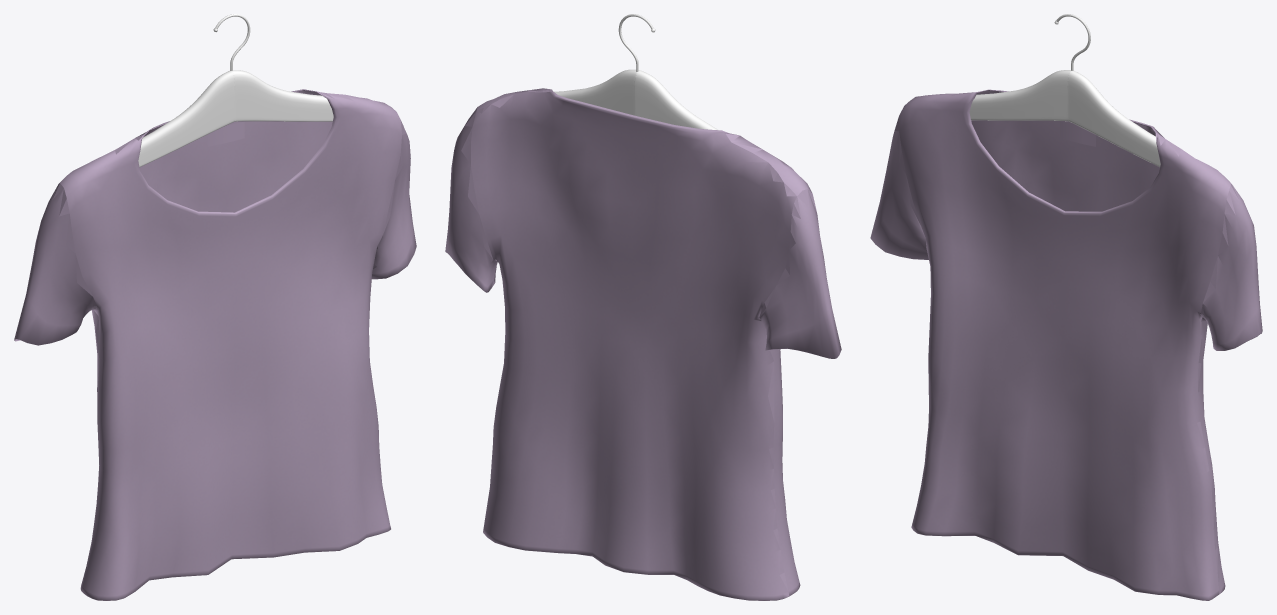
Rendered from HangingPurpleBlouse.gltf.
The picture shows the model from 3 angles, left to right: view 1: azimuth 30°, elevation 25°; view 2: azimuth 150°, elevation 25°; view 3: azimuth 330°, elevation 25°; orthographic projection.
Parts seen in each view (by area): view 1: HangingPurpleBlouse; view 2: HangingPurpleBlouse; view 3: HangingPurpleBlouse.
Part boxes in pixels (x1,y1,x2,y2): HangingPurpleBlouse: [14, 14, 416, 600]; HangingPurpleBlouse: [445, 14, 841, 600]; HangingPurpleBlouse: [870, 14, 1262, 600].
Bounding box in the file's own units: 0.5582 × 0.734 × 0.1026.
3 materials, 1 textured.
